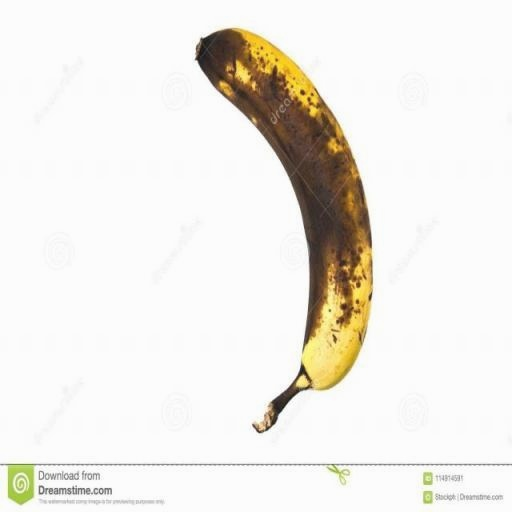fruit: (80, 16, 336, 142)
